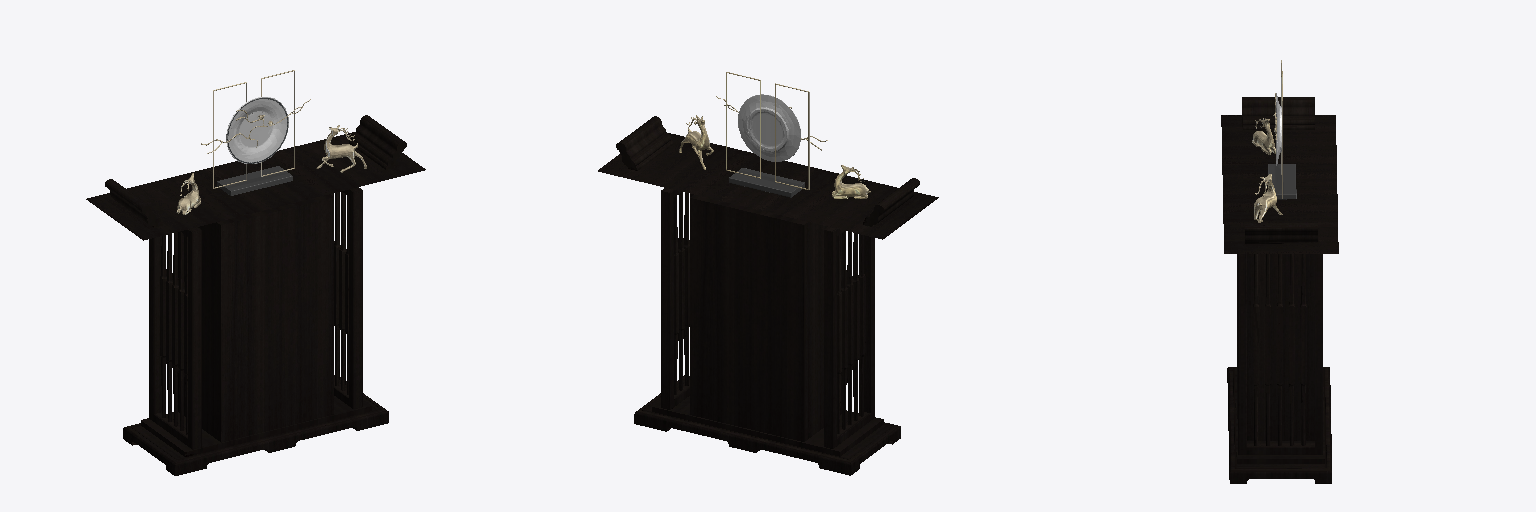
The picture shows the model from 3 angles: view 1: azimuth 30°, elevation 25°; view 2: azimuth 150°, elevation 25°; view 3: azimuth 270°, elevation 25°; orthographic projection.
Parts seen in each view (by area): view 1: solid_004, solid_003, solid_002, solid_001; view 2: solid_004, solid_003, solid_002, solid_001; view 3: solid_004, solid_002, solid_001.
Part boxes in pixels (x1,y1,x2,y2): solid_004: (86,115,425,475); solid_003: (226,97,288,163); solid_002: (176,70,366,214); solid_001: (217,166,292,195); solid_004: (598,116,938,475); solid_003: (738,94,800,161); solid_002: (679,72,870,198); solid_001: (729,168,804,197); solid_004: (1221,97,1338,483); solid_002: (1252,60,1282,222); solid_001: (1268,164,1296,199).
Bounding box in the file's own units: 1.2 × 1.4 × 0.4258.
Materials: 1 (1 with a texture image).